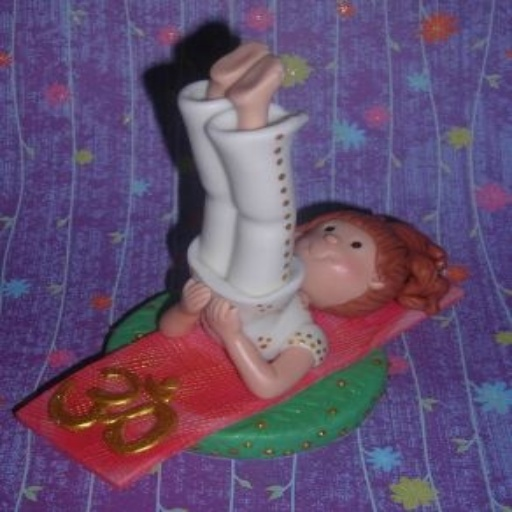hand: (175, 272, 212, 316), (201, 299, 241, 332)
